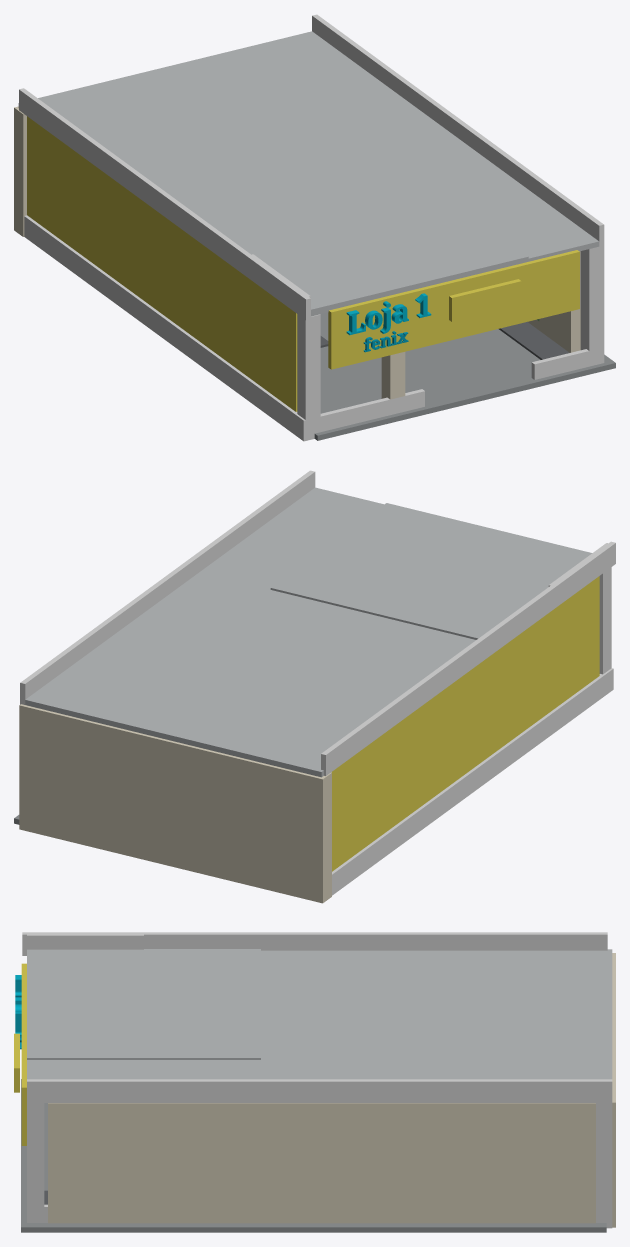
File: LOJAFENIX.glb
The picture shows the model from 3 angles, top to bottom: view 1: azimuth 30°, elevation 25°; view 2: azimuth 150°, elevation 25°; view 3: azimuth 270°, elevation 25°; orthographic projection.
Parts seen in each view (by area): view 1: Mesh_Mesh_head_geo.001_lambert2SG.001; view 2: Mesh_Mesh_head_geo.001_lambert2SG.001; view 3: Mesh_Mesh_head_geo.001_lambert2SG.001.
Part boxes in pixels (left/top/right/bottom): Mesh_Mesh_head_geo.001_lambert2SG.001: left=14, top=14, right=615, bottom=441; Mesh_Mesh_head_geo.001_lambert2SG.001: left=14, top=470, right=615, bottom=903; Mesh_Mesh_head_geo.001_lambert2SG.001: left=14, top=932, right=615, bottom=1232.
Size of the model in its own units: 312 by 138 by 514.
